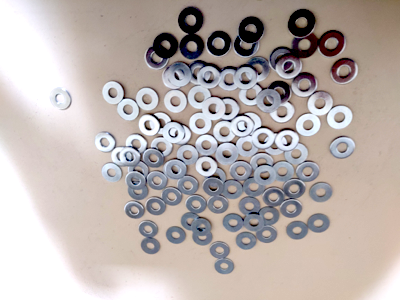circle: (289, 10, 316, 38), (331, 58, 358, 85), (319, 31, 346, 58), (239, 17, 265, 44), (276, 54, 303, 80), (292, 32, 318, 59), (234, 32, 260, 58), (307, 91, 333, 116), (269, 47, 295, 72), (292, 73, 318, 98), (327, 105, 354, 129), (179, 8, 203, 34), (207, 31, 231, 57), (180, 35, 204, 60), (168, 62, 192, 87), (296, 113, 321, 137), (257, 89, 282, 113), (267, 82, 292, 106), (234, 66, 259, 90), (246, 57, 270, 82), (330, 137, 356, 160), (188, 85, 212, 109), (154, 34, 178, 58), (146, 45, 170, 69), (217, 67, 241, 91), (239, 112, 262, 137), (136, 87, 159, 111), (275, 129, 299, 152), (198, 65, 221, 89), (189, 61, 212, 85), (164, 90, 187, 113), (252, 128, 275, 151), (162, 67, 186, 89), (239, 84, 263, 106), (270, 102, 295, 123), (203, 97, 225, 120), (216, 143, 239, 165), (236, 135, 259, 157), (285, 142, 308, 164), (103, 81, 124, 105), (50, 88, 72, 110), (118, 99, 140, 121), (163, 122, 185, 144), (190, 112, 212, 134), (214, 121, 236, 143), (150, 112, 171, 135), (216, 99, 239, 120), (297, 162, 320, 183), (251, 153, 274, 174), (196, 156, 218, 177), (196, 135, 218, 156), (254, 165, 276, 186), (310, 183, 333, 203), (95, 132, 116, 153), (139, 116, 160, 137), (264, 187, 285, 208), (239, 197, 261, 217), (177, 175, 199, 195), (230, 161, 252, 181), (147, 171, 168, 191), (102, 163, 123, 183), (120, 147, 141, 167), (143, 148, 164, 168), (170, 125, 191, 145), (177, 145, 198, 165), (259, 207, 280, 227), (127, 133, 147, 154), (152, 137, 173, 157), (273, 162, 294, 182), (308, 214, 330, 233), (281, 199, 303, 218), (284, 180, 306, 199), (112, 148, 132, 168), (128, 161, 149, 180), (186, 195, 207, 214), (203, 178, 224, 197), (244, 178, 265, 197), (244, 214, 266, 232), (287, 222, 309, 240), (126, 172, 146, 191), (206, 168, 226, 187), (167, 160, 186, 180), (164, 161, 184, 180), (224, 180, 243, 200), (162, 188, 183, 206), (208, 196, 229, 214), (125, 201, 145, 219), (166, 227, 186, 245), (146, 198, 166, 216), (128, 182, 148, 200), (193, 228, 213, 246), (192, 218, 212, 236), (223, 214, 243, 232), (237, 232, 257, 250), (256, 226, 277, 243), (139, 221, 159, 238), (181, 214, 201, 231), (210, 242, 229, 259), (141, 238, 160, 255), (215, 260, 235, 275)
